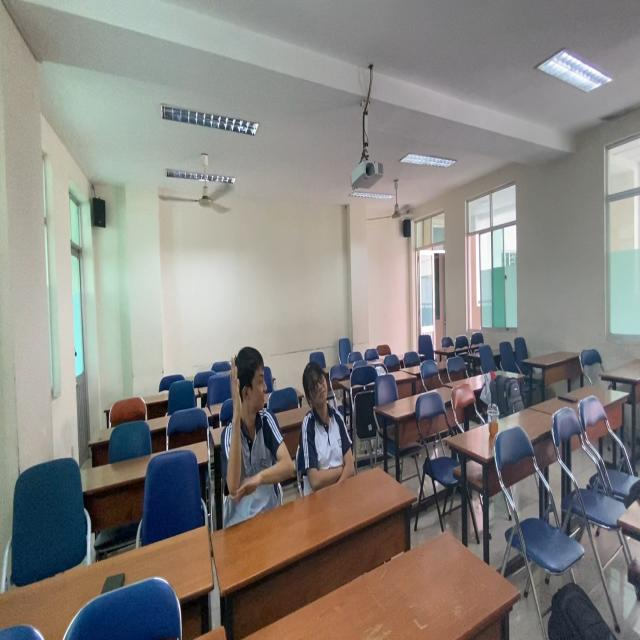raise_hand: (225, 342, 297, 523)
